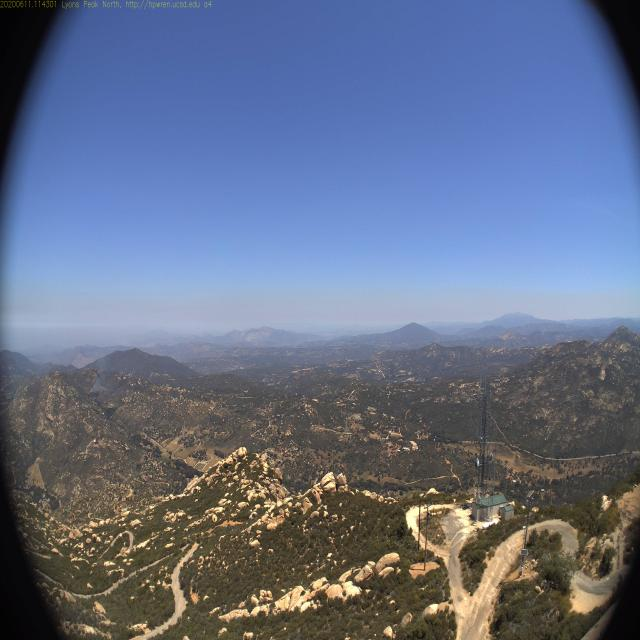smoke: (86, 351, 112, 398)
